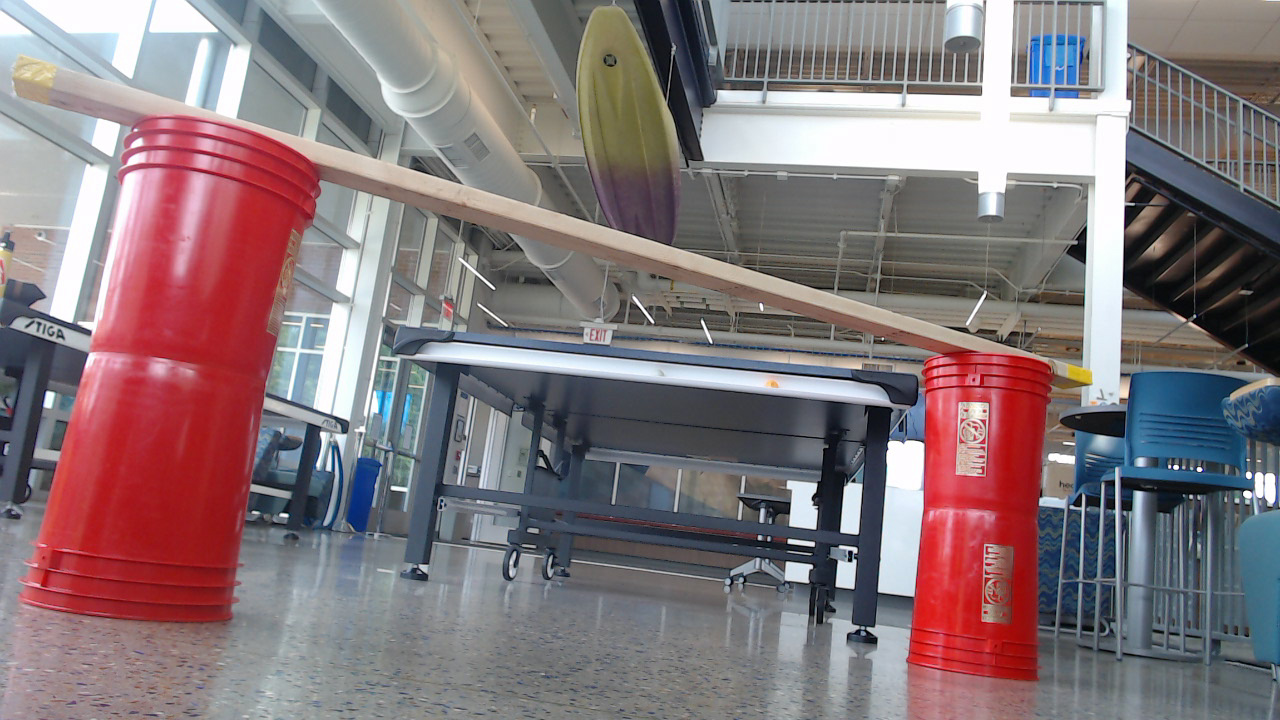blue_bucket: (16, 112, 1054, 695)
